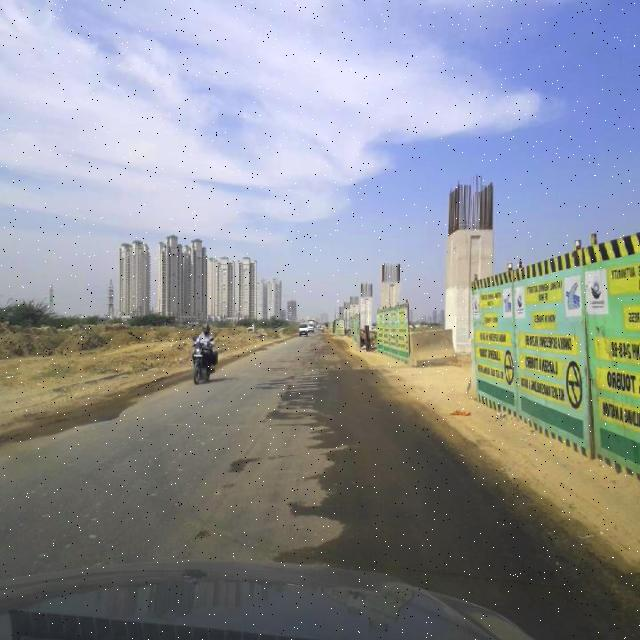D00: (212, 364, 298, 522)
